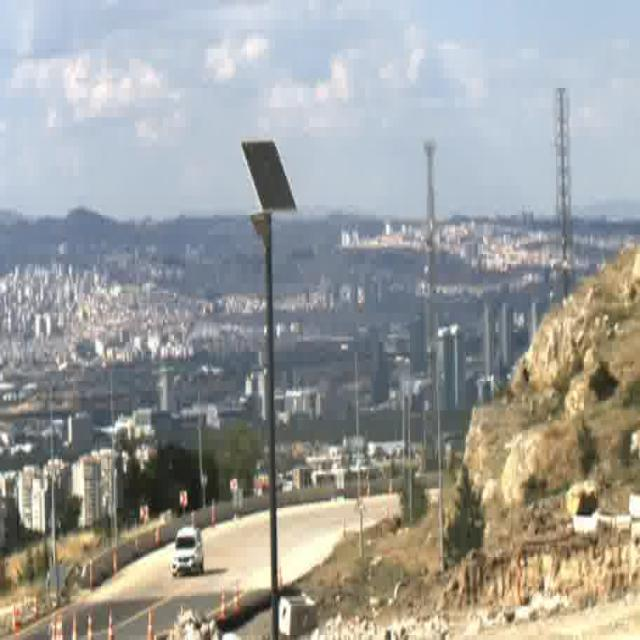Car: (172, 528, 204, 575)
